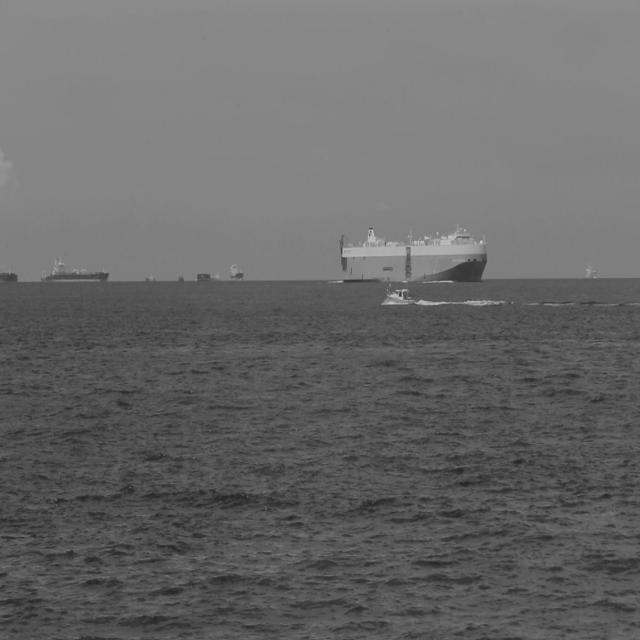ship: (338, 223, 488, 284), (50, 252, 110, 284), (386, 282, 416, 306), (0, 265, 20, 283), (228, 260, 244, 282), (196, 270, 212, 282), (40, 268, 50, 284), (178, 274, 185, 282)
